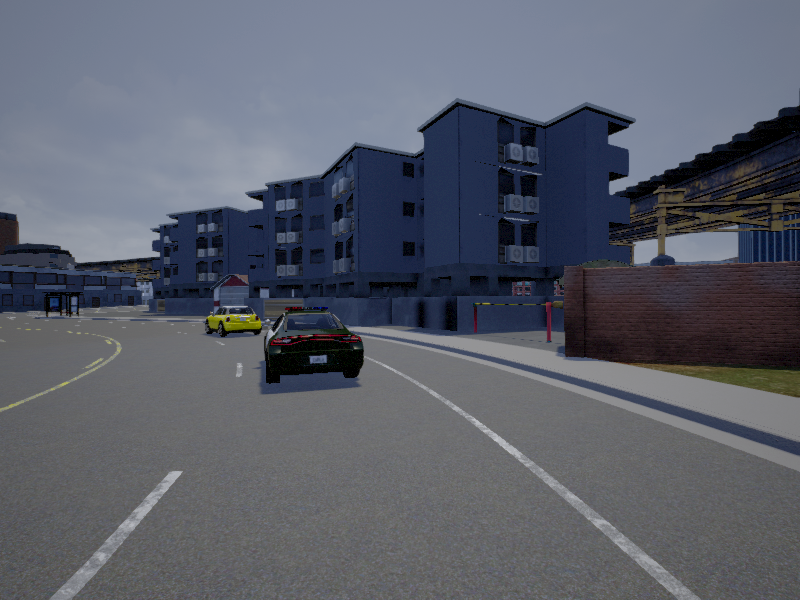Benign: (262, 309, 365, 382), (205, 308, 262, 337)
